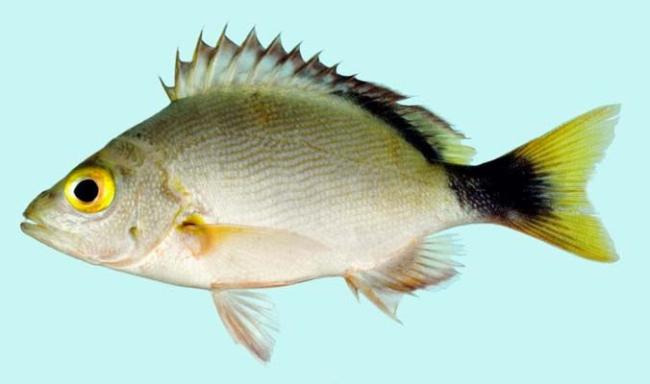fish: (19, 22, 624, 368)
